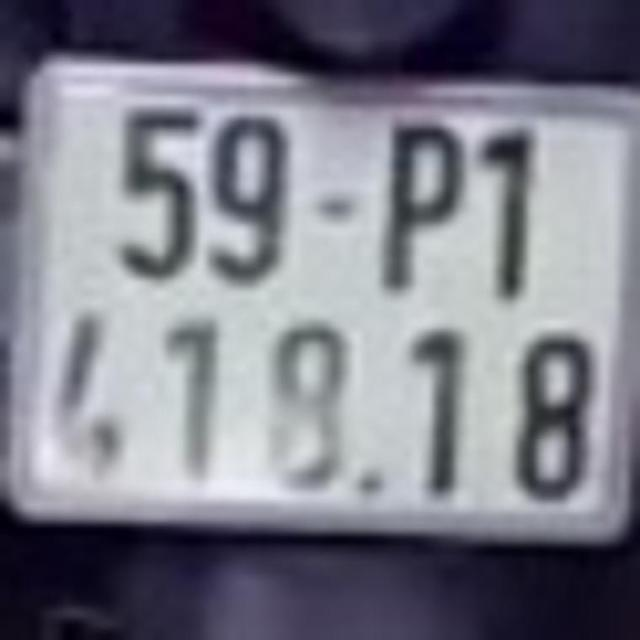1: (478, 121, 533, 302), (163, 314, 219, 482), (411, 325, 462, 496)
4: (51, 308, 128, 484)
5: (116, 104, 200, 281)
8: (517, 328, 592, 503), (272, 318, 344, 490)
9: (209, 111, 286, 284)
P: (381, 116, 465, 298)
